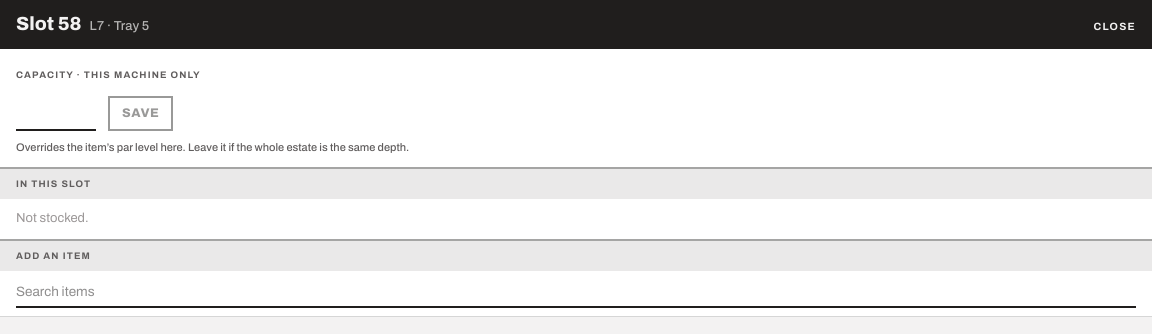
SlotEditSheet › disables Save capacity while the typed value is below 1, and re-enables once it is not
The width and height of the screenshot is (1152, 334).
Type "0" into the number field named "Capacity".
click(56, 110); type("0")  # box [16, 88, 96, 130]
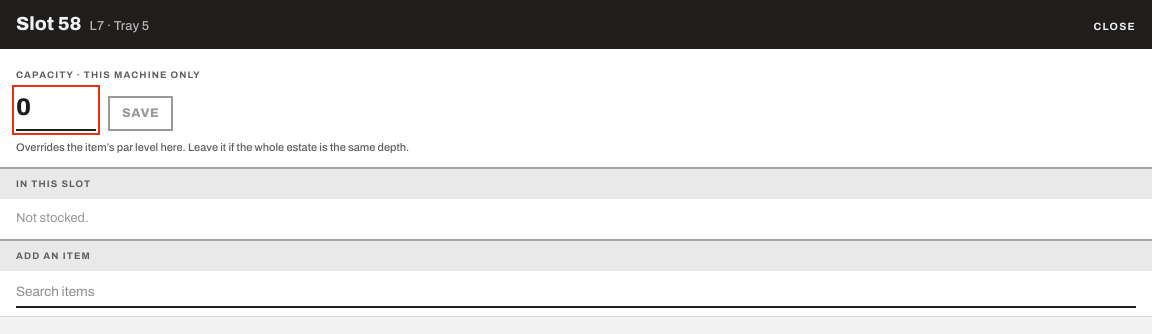
Check: the button "Save" is disabled, box [108, 96, 173, 131]
Replace the text in the number field named "Capacity" with "5" at (56, 110), box [16, 88, 96, 130]
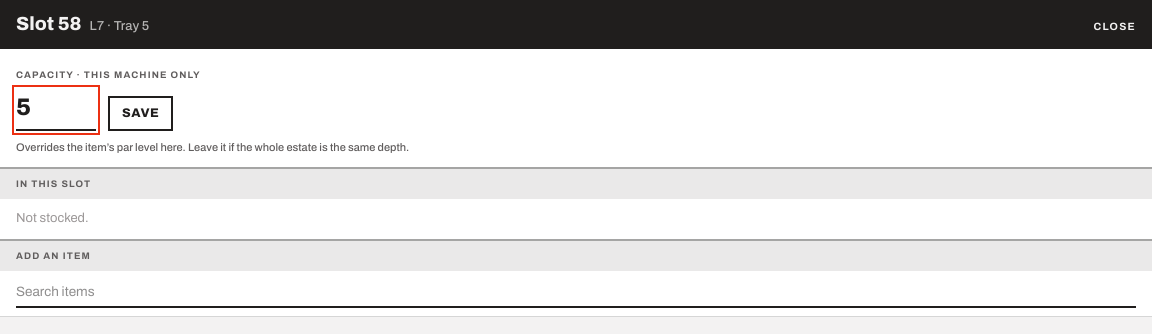
Check: the button "Save" is enabled, box [108, 96, 173, 131]
